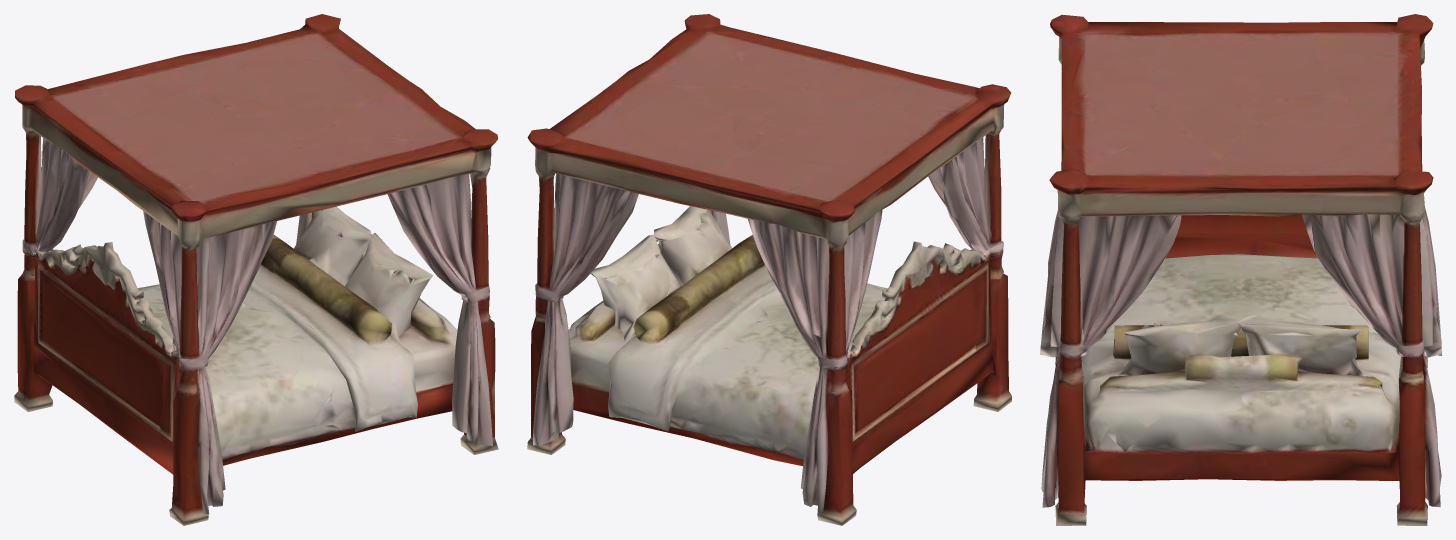
Rendered from au_furn_bed_imperial.glb.
3 renders of one model, left to right at view 1: azimuth 30°, elevation 25°; view 2: azimuth 150°, elevation 25°; view 3: azimuth 270°, elevation 25°, orthographic. The views are drawn at different scales.
Parts seen in each view (by area): view 1: tripo_node_3f96b5e3-08f3-4ac7-b8ad-80db54fa8944; view 2: tripo_node_3f96b5e3-08f3-4ac7-b8ad-80db54fa8944; view 3: tripo_node_3f96b5e3-08f3-4ac7-b8ad-80db54fa8944.
Boxes of the visible parts, <box> form: tripo_node_3f96b5e3-08f3-4ac7-b8ad-80db54fa8944: <box>14,14,498,525</box>; tripo_node_3f96b5e3-08f3-4ac7-b8ad-80db54fa8944: <box>527,14,1011,525</box>; tripo_node_3f96b5e3-08f3-4ac7-b8ad-80db54fa8944: <box>1040,14,1441,525</box>.
Bounding box in the file's own units: 0.9837 × 0.9064 × 0.9659.
Materials: 1 (1 with a texture image).
